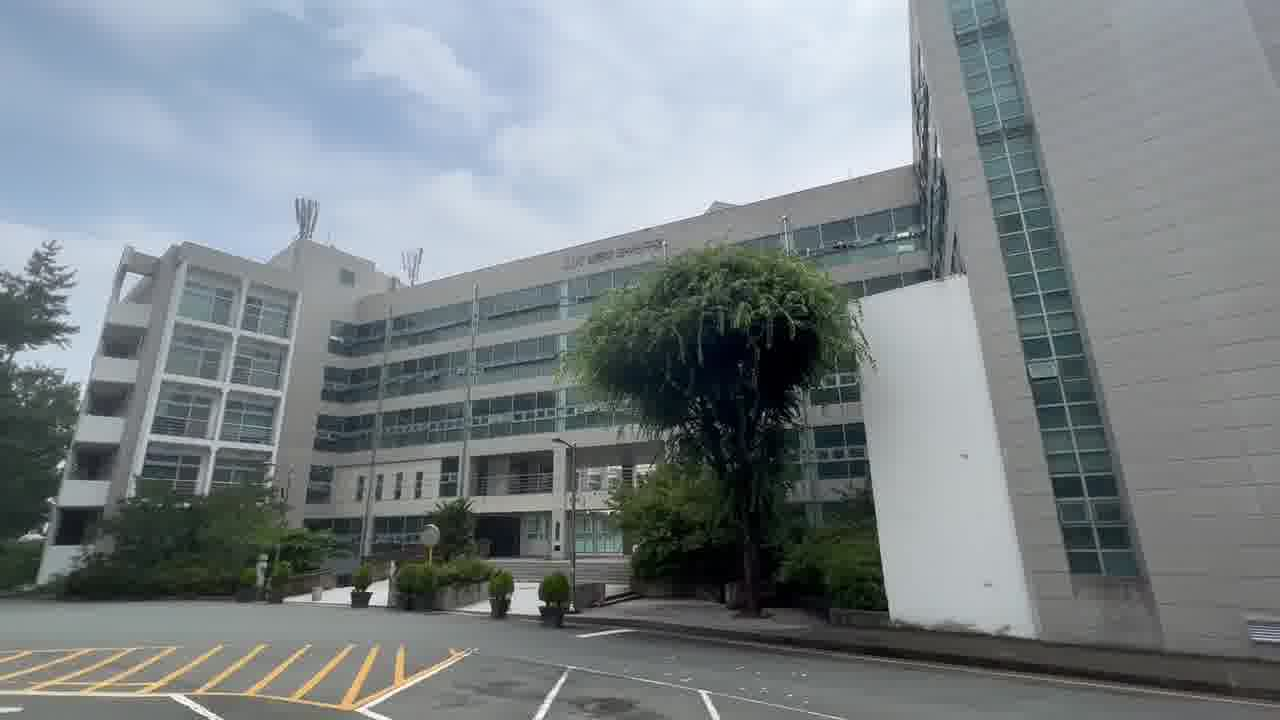low: (72, 193, 589, 487)
